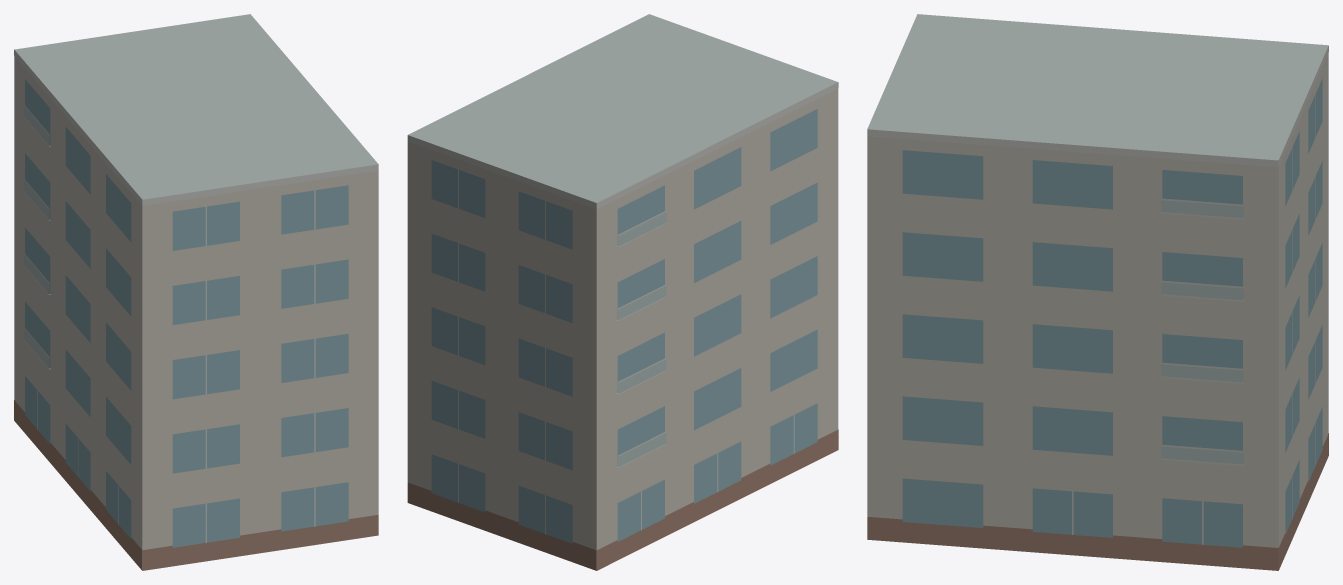
File: survey-upis-33007917.glb
The picture shows the model from 3 angles, left to right: view 1: azimuth 30°, elevation 25°; view 2: azimuth 150°, elevation 25°; view 3: azimuth 270°, elevation 25°; orthographic projection. The views are drawn at different scales.
Visible parts, largest first — view 1: survey-upis-33007917.tmp; view 2: survey-upis-33007917.tmp; view 3: survey-upis-33007917.tmp.
Part boxes in pixels (x1,y1,x2,y2): survey-upis-33007917.tmp: (14,14,378,570); survey-upis-33007917.tmp: (407,14,838,570); survey-upis-33007917.tmp: (867,14,1328,570).
Bounding box in the file's own units: 11.03 × 14.4 × 14.69.
